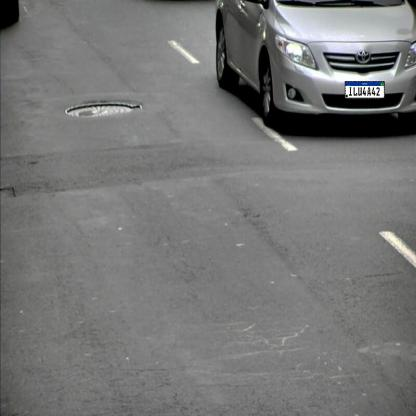PlacaM: (345, 81, 385, 99)
